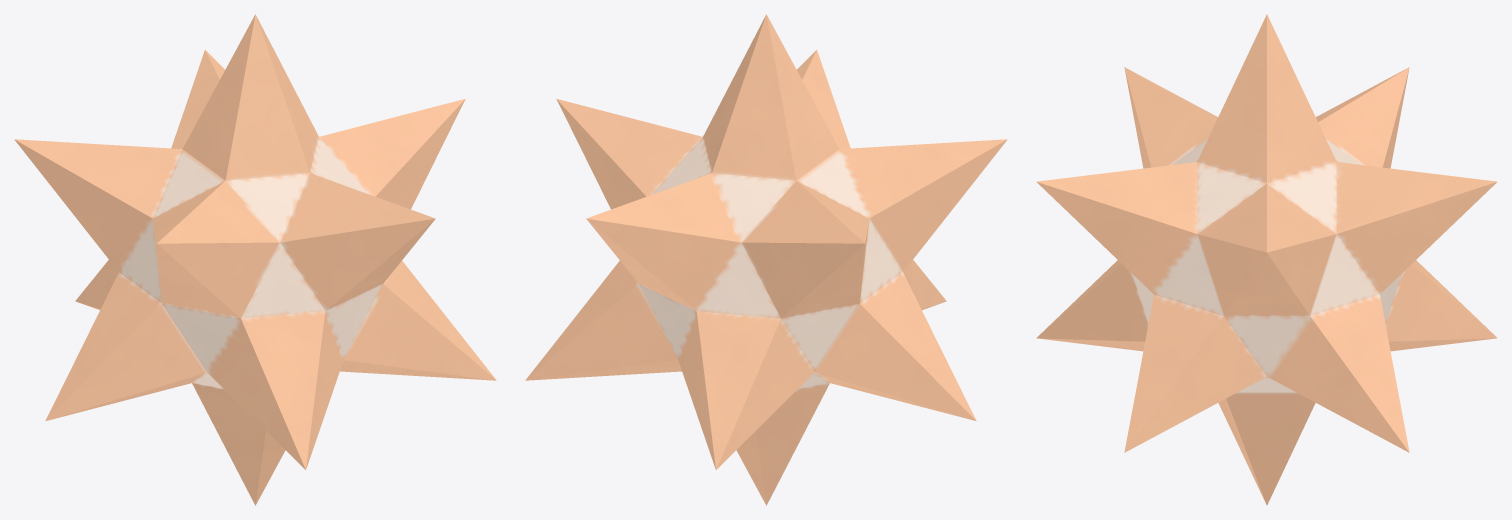
The model's file is star-ember.glb.
3 renders of one model, left to right at view 1: azimuth 30°, elevation 25°; view 2: azimuth 150°, elevation 25°; view 3: azimuth 270°, elevation 25°, orthographic.
Visible parts, largest first — view 1: Star_Ember; view 2: Star_Ember; view 3: Star_Ember.
Part boxes in pixels (x1,y1,x2,y2): Star_Ember: (14,14,496,505); Star_Ember: (525,14,1007,505); Star_Ember: (1036,14,1497,505).
Bounding box in the file's own units: 3.13 × 3.5 × 2.98.
1 material, 1 textured.
